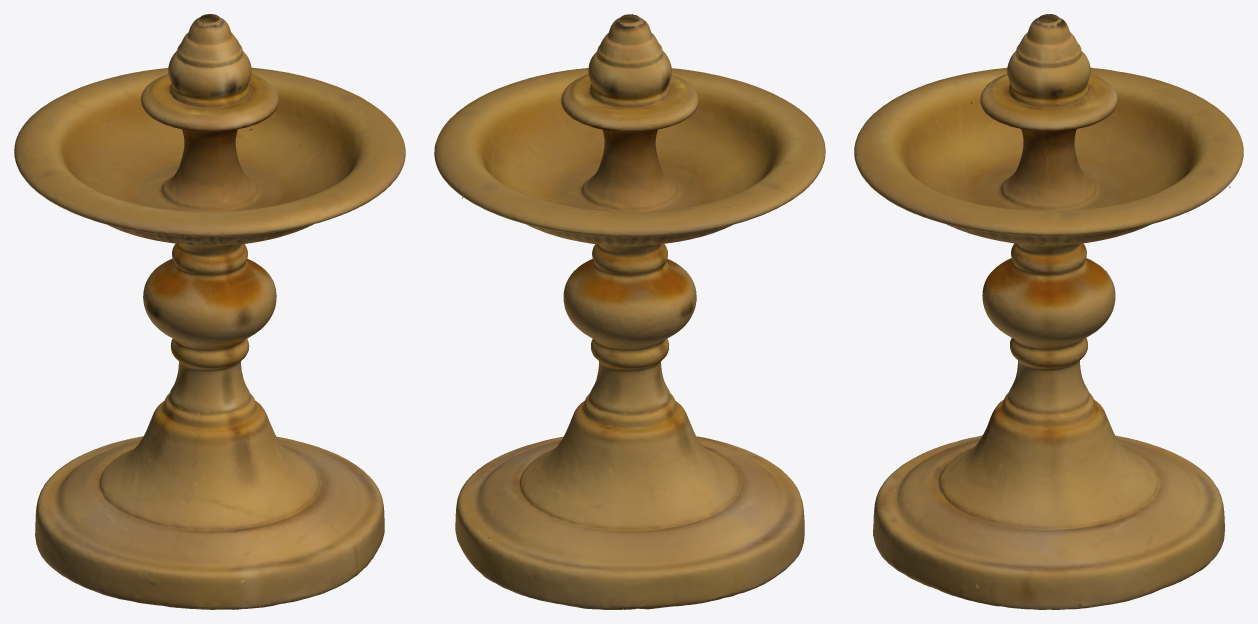
The model's file is lamp-no-flame.gltf.
The picture shows the model from 3 angles, left to right: view 1: azimuth 30°, elevation 25°; view 2: azimuth 150°, elevation 25°; view 3: azimuth 270°, elevation 25°; orthographic projection.
Visible parts, largest first — view 1: lamp; view 2: lamp; view 3: lamp.
Boxes of the visible parts, x1,y1,x2,y2 form: lamp: (14,14,405,609); lamp: (434,14,825,609); lamp: (854,14,1243,609).
Bounding box in the file's own units: 1.1 × 1.62 × 1.1.
